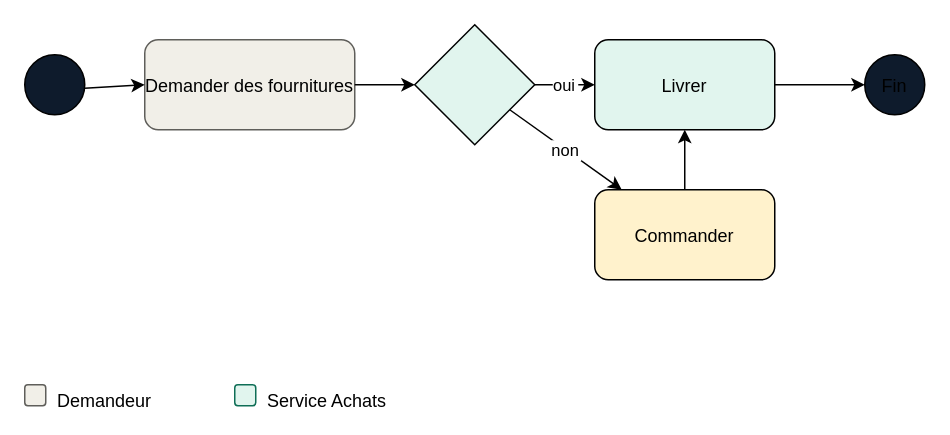
The diagram is 950 pixels wide and 435 high, and some of its shapes have lost their labels. Here are the shapes that lost their labels. From the top down, the centre of each, then its label:
At pixel 54 84: "Début".
At pixel 474 84: "En stock ?".
